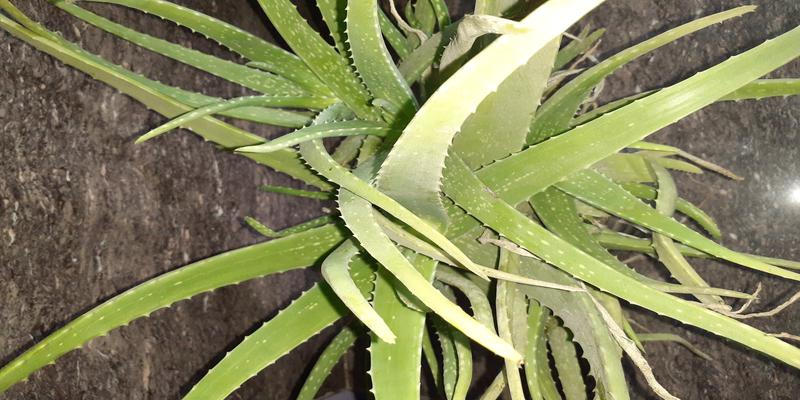Aloevera: (207, 34, 685, 372)
